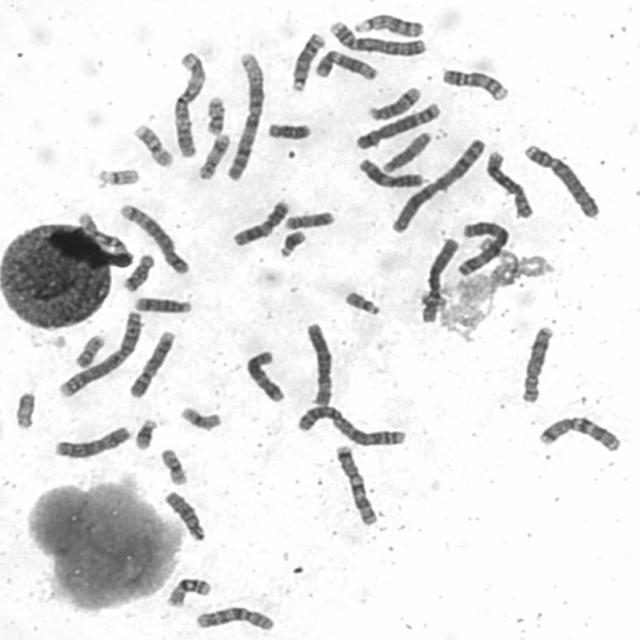A1: (388, 136, 488, 241), (222, 48, 267, 182)
A2: (54, 308, 145, 398), (294, 400, 408, 448)
A3: (170, 47, 209, 159), (454, 217, 511, 277)
B4: (520, 140, 603, 220), (326, 16, 428, 58)
B5: (115, 200, 192, 277), (352, 98, 442, 151)
C10: (165, 490, 210, 548), (192, 603, 277, 633)
C11: (230, 196, 292, 248), (355, 155, 426, 190)
C12: (243, 349, 290, 407), (311, 46, 380, 82)
C6: (417, 235, 462, 324), (302, 318, 336, 406)
C7: (331, 442, 380, 526), (534, 412, 623, 453)
C8: (483, 148, 535, 220), (517, 322, 556, 405)
C9: (126, 328, 177, 400), (438, 64, 510, 102)
D13: (287, 29, 327, 93), (351, 11, 426, 38)
D14: (365, 82, 423, 121), (130, 294, 193, 315)
D15: (379, 128, 434, 175), (77, 214, 130, 252)
E16: (130, 121, 175, 168), (163, 574, 213, 609)
E17: (194, 131, 232, 181), (279, 210, 339, 230)
E18: (119, 250, 156, 292), (265, 118, 312, 142)
F19: (176, 403, 223, 432), (156, 447, 190, 486)
F20: (71, 330, 107, 369), (202, 93, 226, 136)
G21: (275, 227, 308, 259), (131, 415, 159, 452)
G22: (341, 288, 382, 317), (92, 164, 141, 188)
X: (50, 422, 133, 460)
Y: (9, 388, 40, 432)
